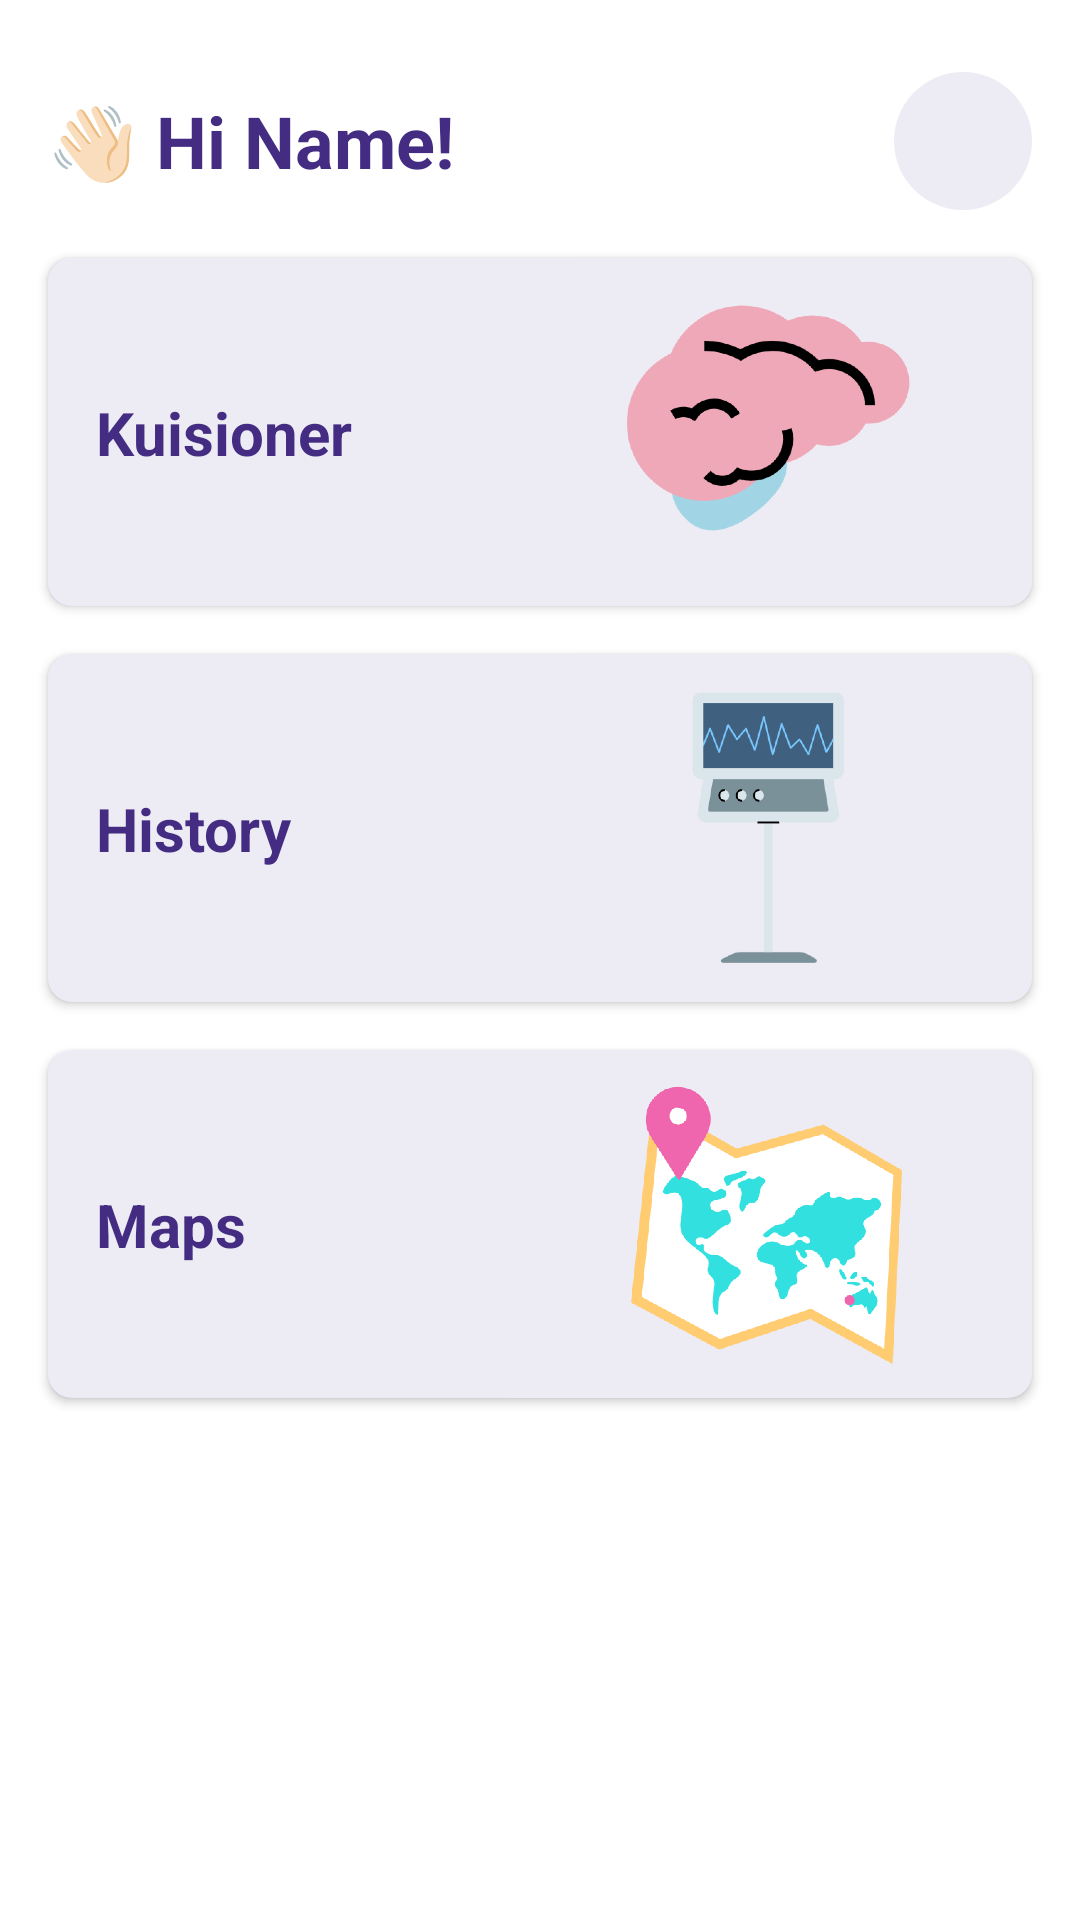

Locate icon controls on the screen. Image size 1080*1920, boxes as (x1=x1, y1=y1, x2=x2, y2=y2).
maps card: (x1=631, y1=1086, x2=902, y2=1364)
